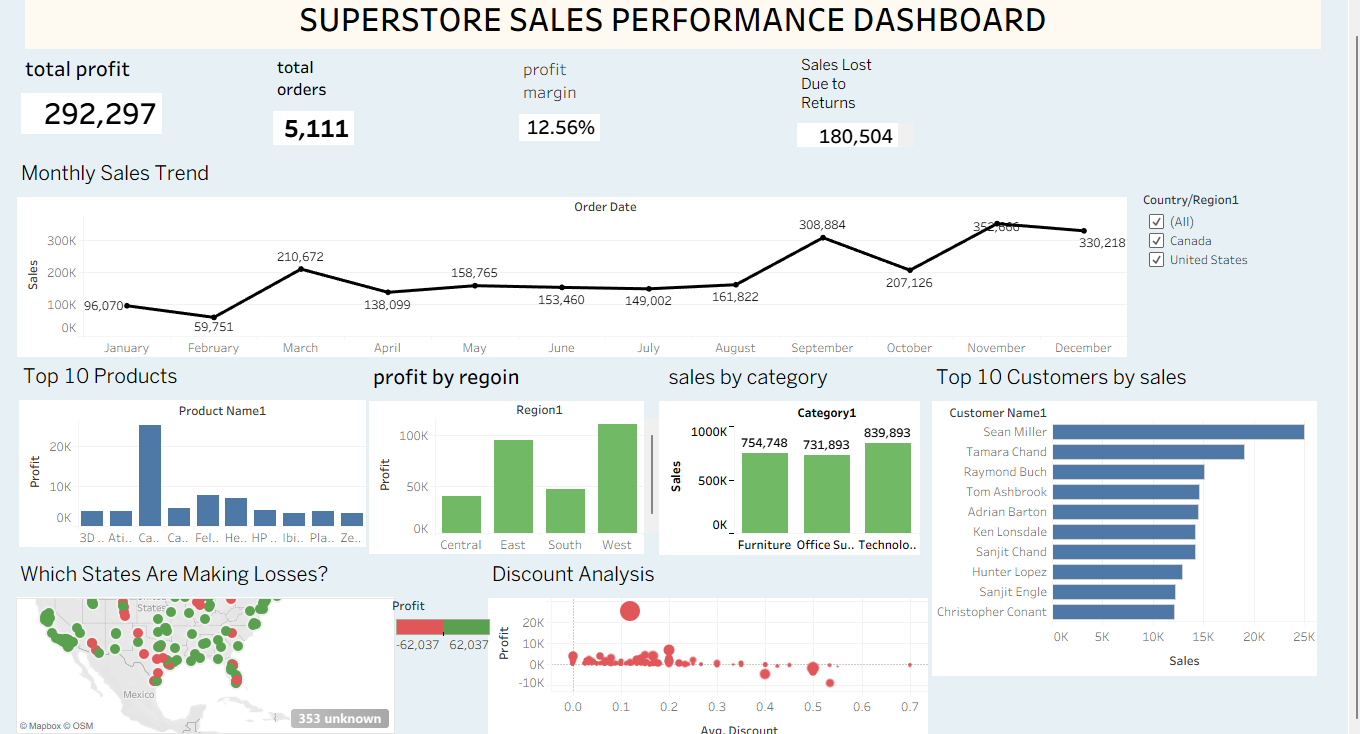

The page's visual inventory and layout, read from the dashboard file:
{"tool":"tableau","page":{"name":"SuperStore Sales Dashboard","canvas":[1320,760],"ordinal":0},"visuals":[{"type":"title","box":[8,8,1304,69]},{"type":"worksheet","title":"total profit ","mark":"Automatic","box":[8,74,244,97]},{"type":"worksheet","title":"Sheet 18","mark":"Automatic","box":[784,75,297,96]},{"type":"worksheet","title":"total orders ","mark":"Automatic","box":[260,76,240,102]},{"type":"worksheet","title":"profit margin","mark":"Automatic","box":[506,77,245,93]},{"type":"worksheet","title":"Sheet 10","mark":"Automatic","rows":["Sales"],"cols":["Order Date"],"box":[4,180,1110,201]},{"type":"filter","title":"Sheet 6","param":"[federated.0g6t0nb0ju0b3g1h7tji701nfmqk].[none:Country/Region:nk]","box":[1130,215,179,96]},{"type":"worksheet","title":"Sheet 5","mark":"Automatic","rows":["Profit"],"cols":["Region"],"box":[356,382,295,196]},{"type":"worksheet","title":"Sheet 13","mark":"Automatic","rows":["Profit"],"cols":["Product Name"],"box":[6,383,347,188]},{"type":"worksheet","title":"Sheet 7","mark":"Bar","rows":["Sales"],"cols":["Category"],"box":[646,384,261,195]},{"type":"worksheet","title":"Sheet 12","mark":"Automatic","rows":["Customer Name"],"cols":["Sales"],"box":[919,384,385,316]},{"type":"worksheet","title":"Sheet 6","mark":"Automatic","box":[3,581,379,177]},{"type":"legend","title":"Sheet 6","param":"[federated.0g6t0nb0ju0b3g1h7tji701nfmqk].[sum:Profit:qk]","box":[379,621,102,81]}]}

Visuals, with their boxes on the page's 1320x760 design canvas (x1, y1, x2, y2). These are canvas units, not pixel positions in the 1360x734 screenshot, which may show the page scaled, cropped or inside an application window:
title: <bbox>8, 8, 1312, 77</bbox>
"total profit " worksheet: <bbox>8, 74, 252, 171</bbox>
"Sheet 18" worksheet: <bbox>784, 75, 1081, 171</bbox>
"total orders " worksheet: <bbox>260, 76, 500, 178</bbox>
"profit margin" worksheet: <bbox>506, 77, 751, 170</bbox>
"Sheet 10" worksheet: <bbox>4, 180, 1114, 381</bbox>
"Sheet 6" filter: <bbox>1130, 215, 1309, 311</bbox>
"Sheet 5" worksheet: <bbox>356, 382, 651, 578</bbox>
"Sheet 13" worksheet: <bbox>6, 383, 353, 571</bbox>
"Sheet 7" worksheet (Bar marks): <bbox>646, 384, 907, 579</bbox>
"Sheet 12" worksheet: <bbox>919, 384, 1304, 700</bbox>
"Sheet 6" worksheet: <bbox>3, 581, 382, 758</bbox>
"Sheet 6" legend: <bbox>379, 621, 481, 702</bbox>
